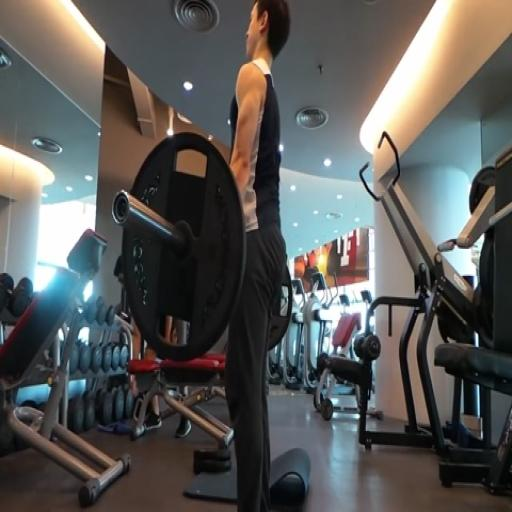exercise: (222, 0, 296, 511)
